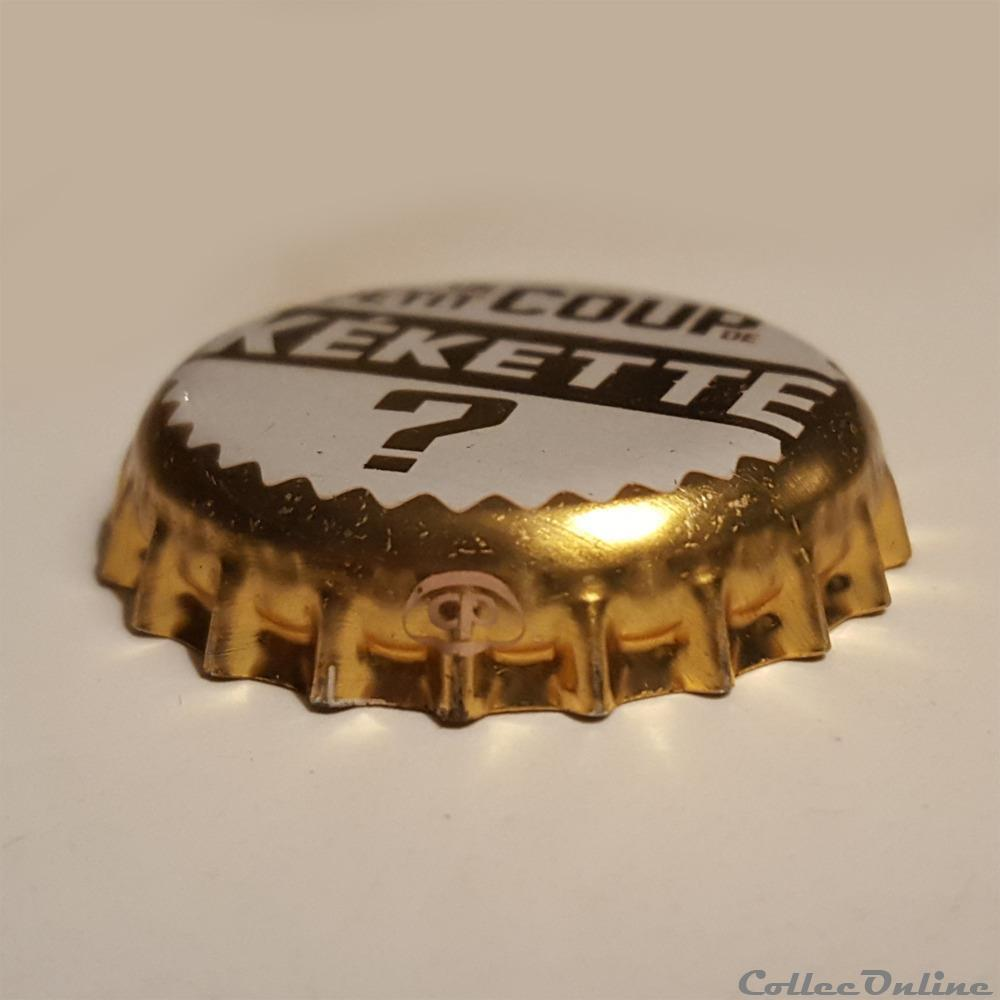metal: (97, 284, 913, 726)
